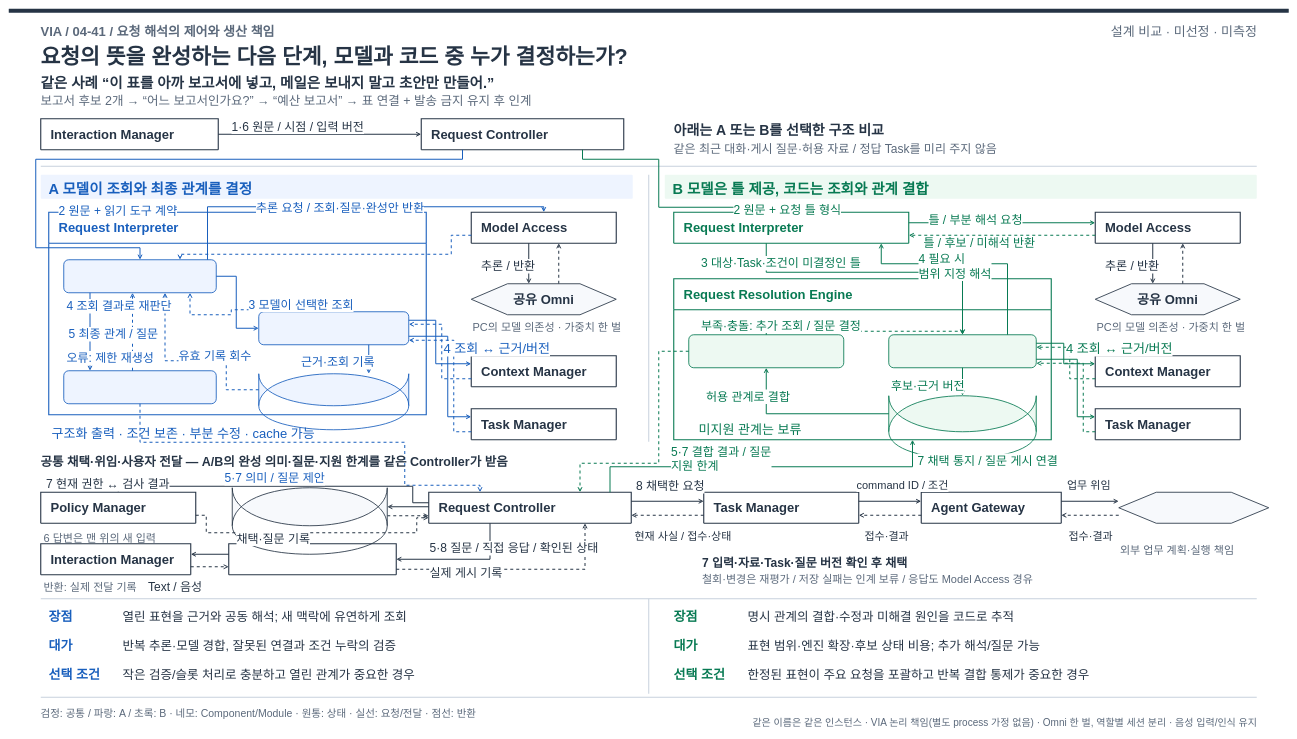
Image size: 1297x739. Some labels were removed from this diagram. The shapes that lost their labels are listed below. From the top down, each one's centre as x and y in pixels, then its label:
the point at 139,276: ReAct 해석 제어기
the point at 333,328: 읽기 도구 실행기
the point at 766,351: 관계 결합기
the point at 962,351: 미해결 항목 처리기
the point at 139,387: 의미 제안 검증기
the point at 333,389: 임시 해석 상태
the point at 962,413: 요청 해석 상태
the point at 309,506: State Store
the point at 1193,507: Downstream Agent
the point at 312,559: Response Manager
